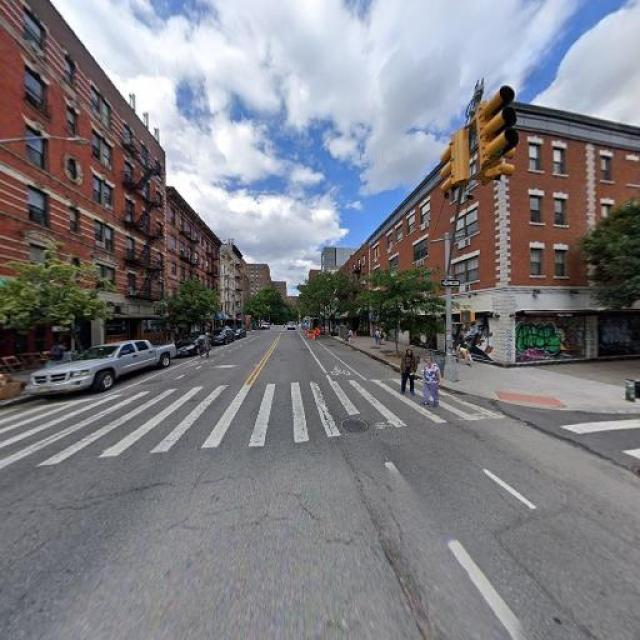Building: (373, 103, 640, 362), (1, 1, 163, 372)
